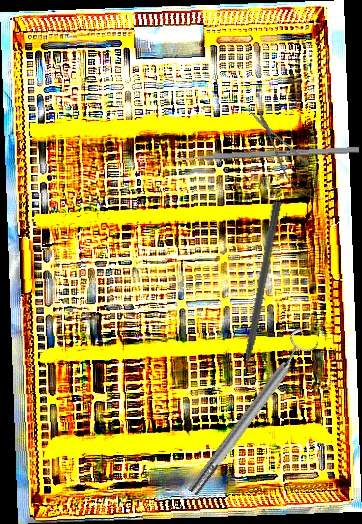Fixation Ring: (178, 325, 322, 502)
Micro Scissor: (241, 101, 332, 209)
Pusher: (234, 200, 283, 391), (162, 145, 360, 164)
